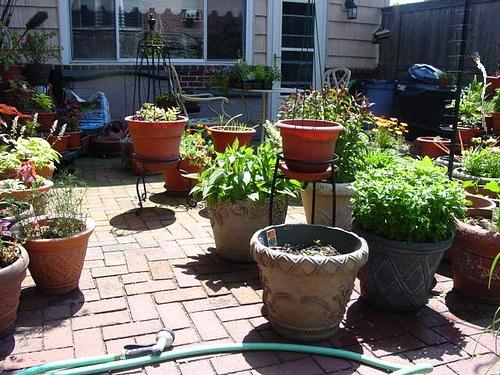tampered: (472, 53, 487, 138)
